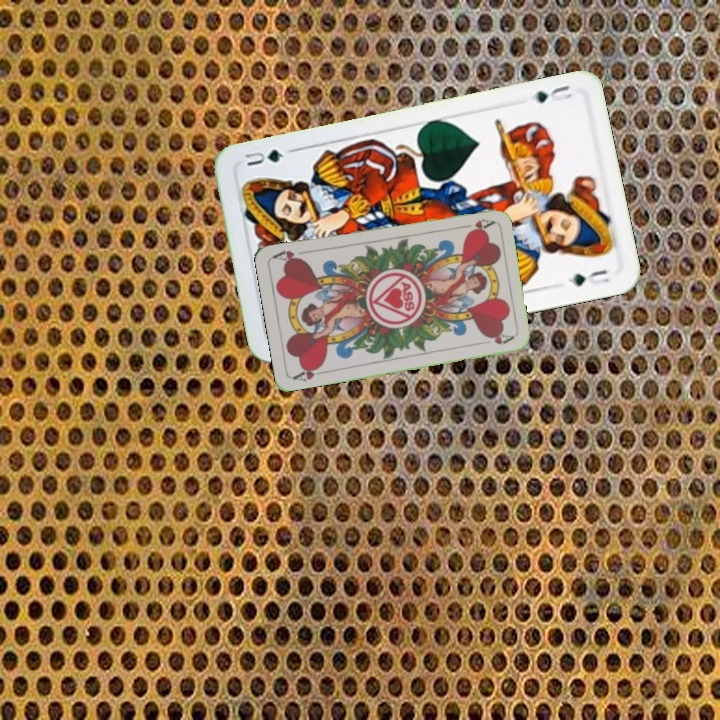GU: (530, 81, 576, 106)
HA: (289, 361, 329, 384), (455, 215, 496, 234)
